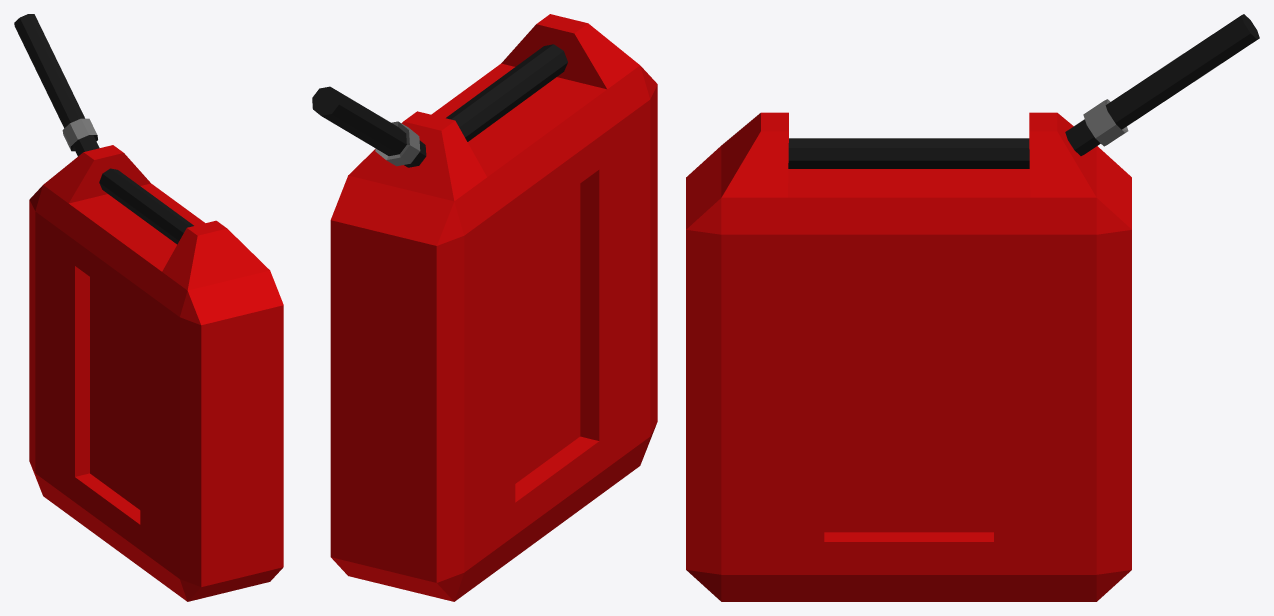
The model's file is GasCanLowPoly.fbx.
3 views of the same model, side by side, from view 1: azimuth 30°, elevation 25°; view 2: azimuth 150°, elevation 25°; view 3: azimuth 270°, elevation 25° (orthographic). The views are drawn at different scales.
Parts seen in each view (by area): view 1: Cube; view 2: Cube; view 3: Cube.
Boxes of the visible parts, x1,y1,x2,y2 form: Cube: (14, 14, 283, 601); Cube: (312, 14, 657, 601); Cube: (686, 14, 1259, 601).
Size of the model in its own units: 32.06 by 135 by 125.
